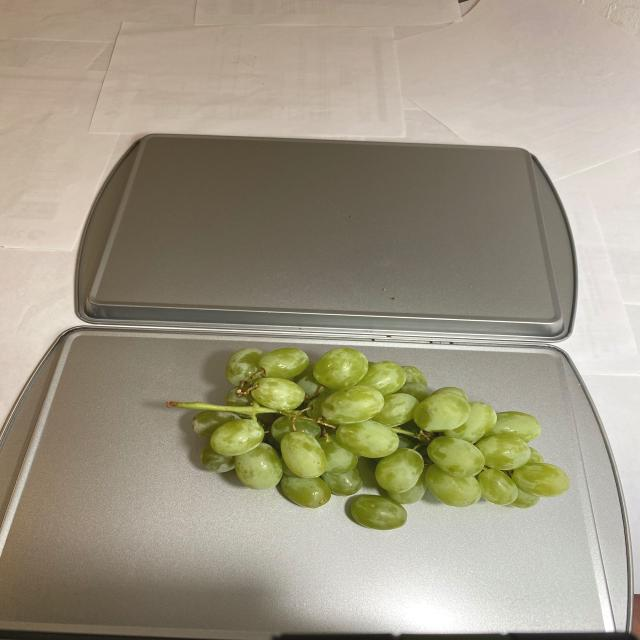grapes: (157, 347, 569, 530)
